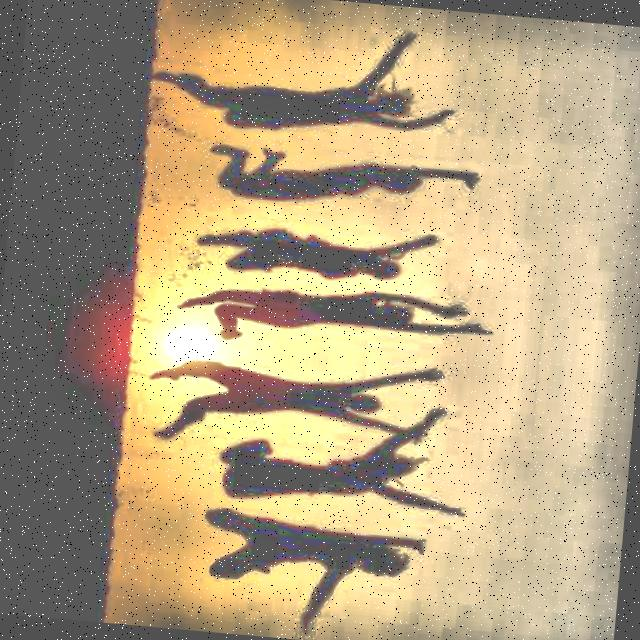happy: (359, 82, 435, 132), (342, 542, 420, 589), (361, 295, 425, 335), (372, 163, 438, 201), (358, 249, 408, 286), (341, 387, 387, 421), (378, 453, 407, 478)
